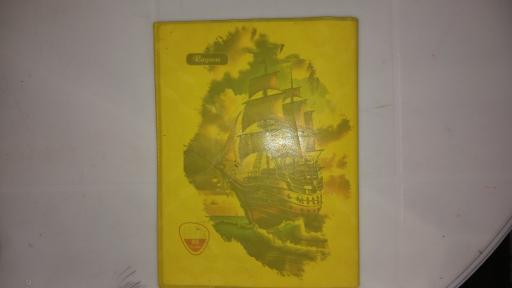notebook: (155, 19, 359, 287)
